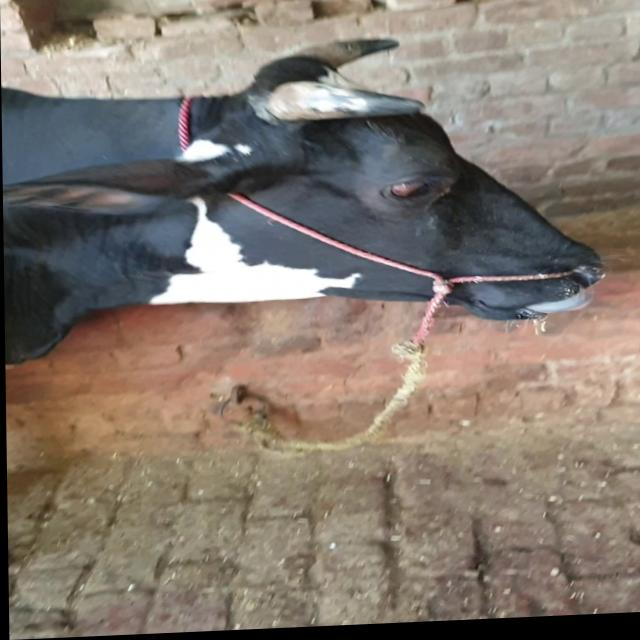cowFace: (290, 64, 612, 347)
